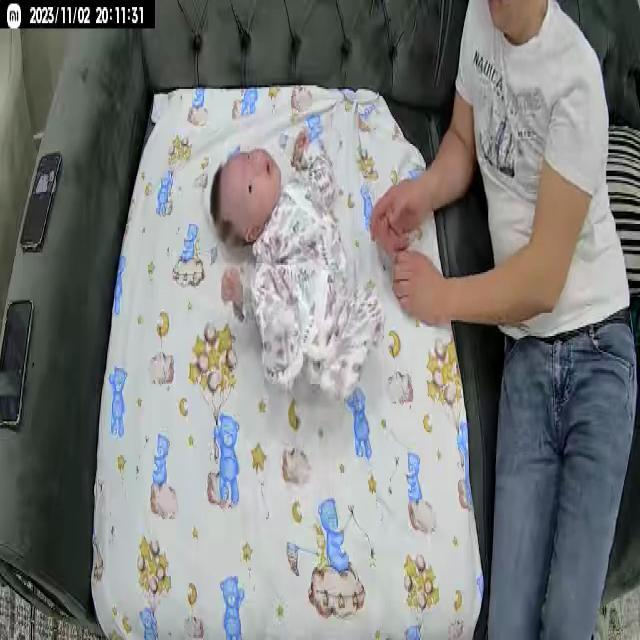baby: (208, 130, 386, 418)
